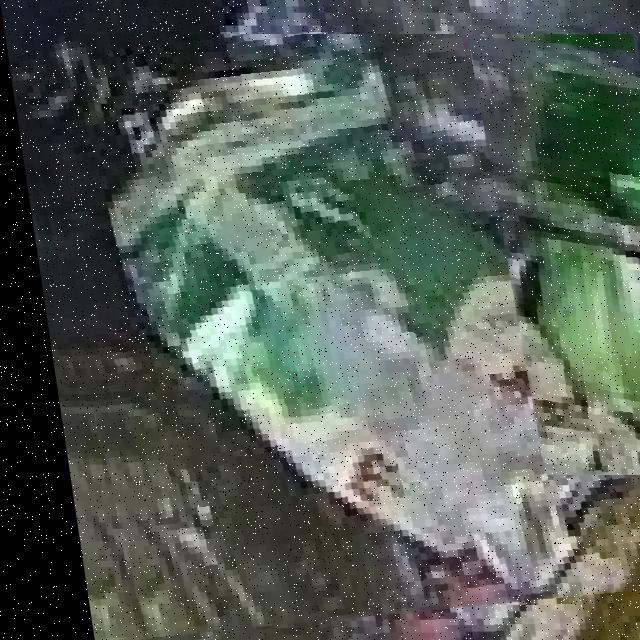can: (32, 34, 640, 607), (507, 49, 640, 475)
